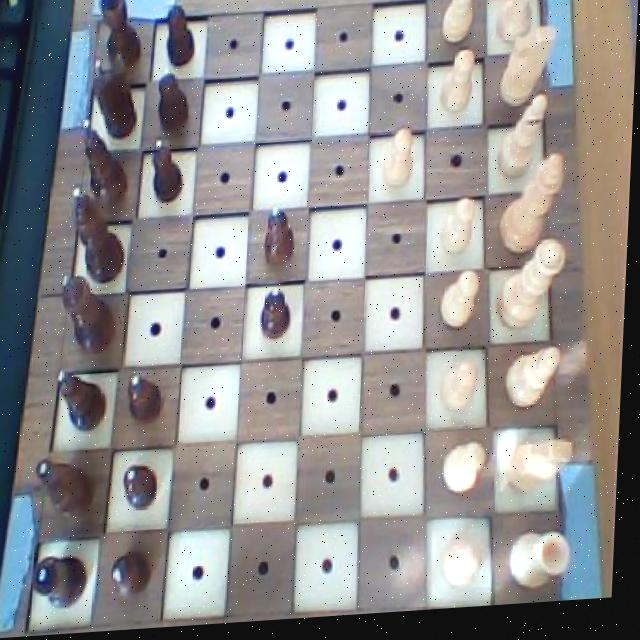bishop: (76, 116, 134, 213), (55, 366, 113, 441)
black-bishop: (66, 184, 135, 290)
black-king: (82, 52, 143, 146), (34, 455, 104, 530)
black-knight: (144, 133, 191, 211), (109, 546, 162, 610), (153, 62, 196, 137), (162, 0, 200, 76), (263, 205, 301, 278), (125, 369, 170, 430), (259, 285, 297, 351), (123, 461, 165, 517)
black-pawn: (57, 268, 126, 364)
black-queen: (93, 0, 146, 78), (33, 551, 94, 617)
black-rook: (493, 97, 554, 192), (504, 348, 572, 424)
white-bishop: (499, 157, 572, 269)
white-king: (493, 31, 559, 118), (507, 443, 579, 508)
white-knight: (434, 273, 485, 343), (438, 51, 482, 126), (379, 130, 424, 203), (443, 444, 494, 507), (443, 538, 491, 601), (438, 202, 481, 269), (440, 366, 483, 422), (439, 0, 480, 56)
white-pawn: (496, 242, 572, 343)
white-queen: (510, 535, 580, 600), (492, 0, 550, 57)
